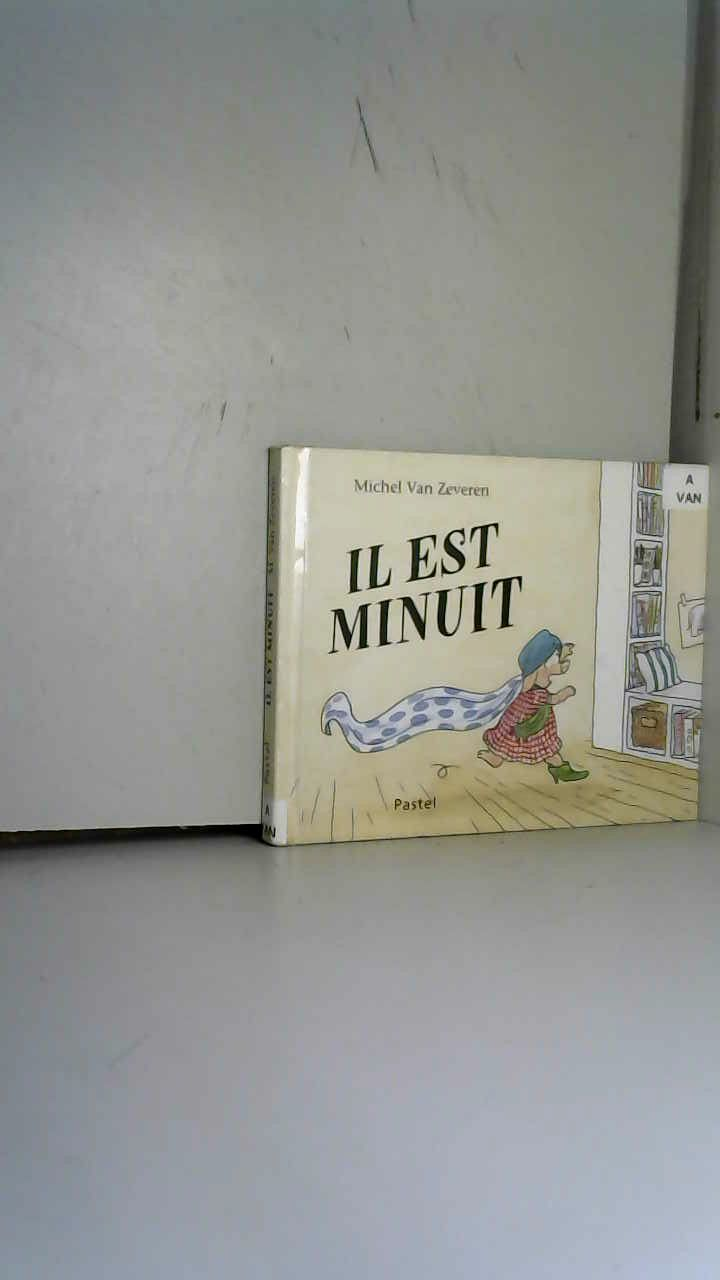book: (251, 428, 718, 868)
